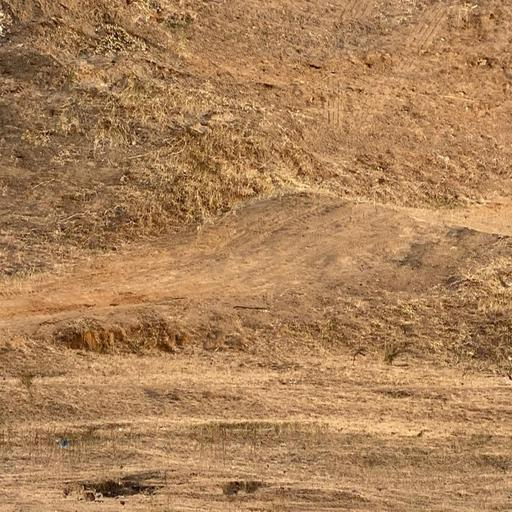vehicle_track: (0, 191, 447, 318)
